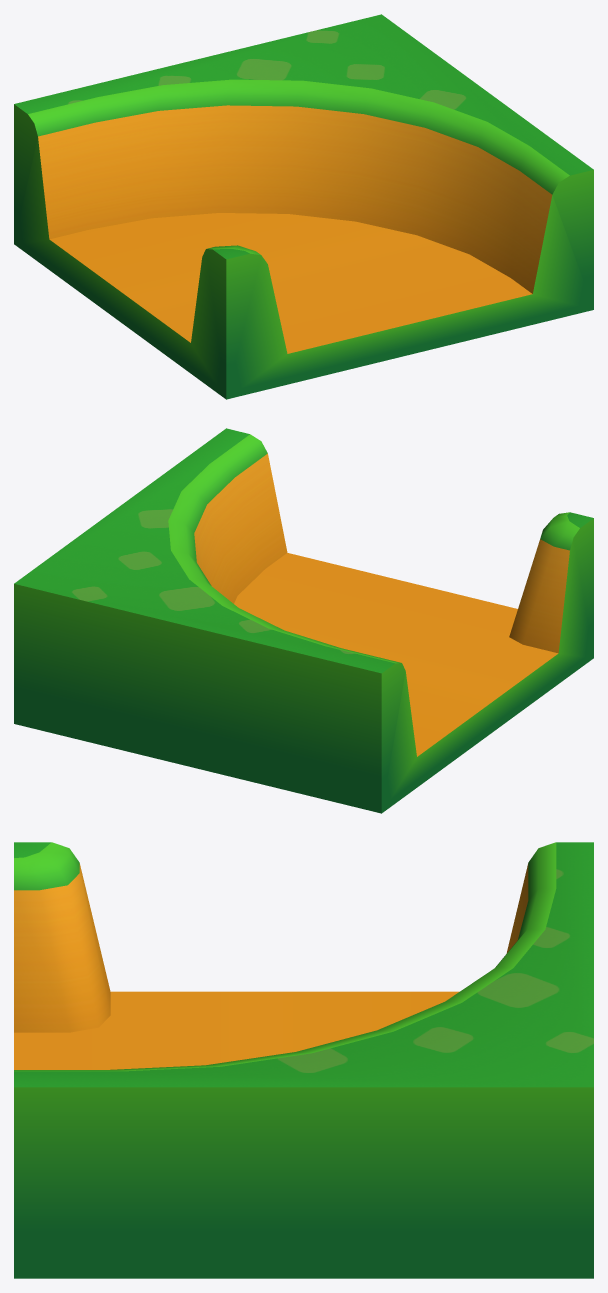
File: RiverTile_3_1.fbx
3 renders of one model, top to bottom at view 1: azimuth 30°, elevation 25°; view 2: azimuth 150°, elevation 25°; view 3: azimuth 270°, elevation 25°, orthographic. The views are drawn at different scales.
Parts seen in each view (by area): view 1: RiverTile_3_1; view 2: RiverTile_3_1; view 3: RiverTile_3_1.
Boxes of the visible parts, x1,y1,x2,y2 form: RiverTile_3_1: [14, 14, 593, 399]; RiverTile_3_1: [14, 428, 593, 813]; RiverTile_3_1: [14, 842, 593, 1278].
Bounding box in the file's own units: 400 × 146 × 400.
